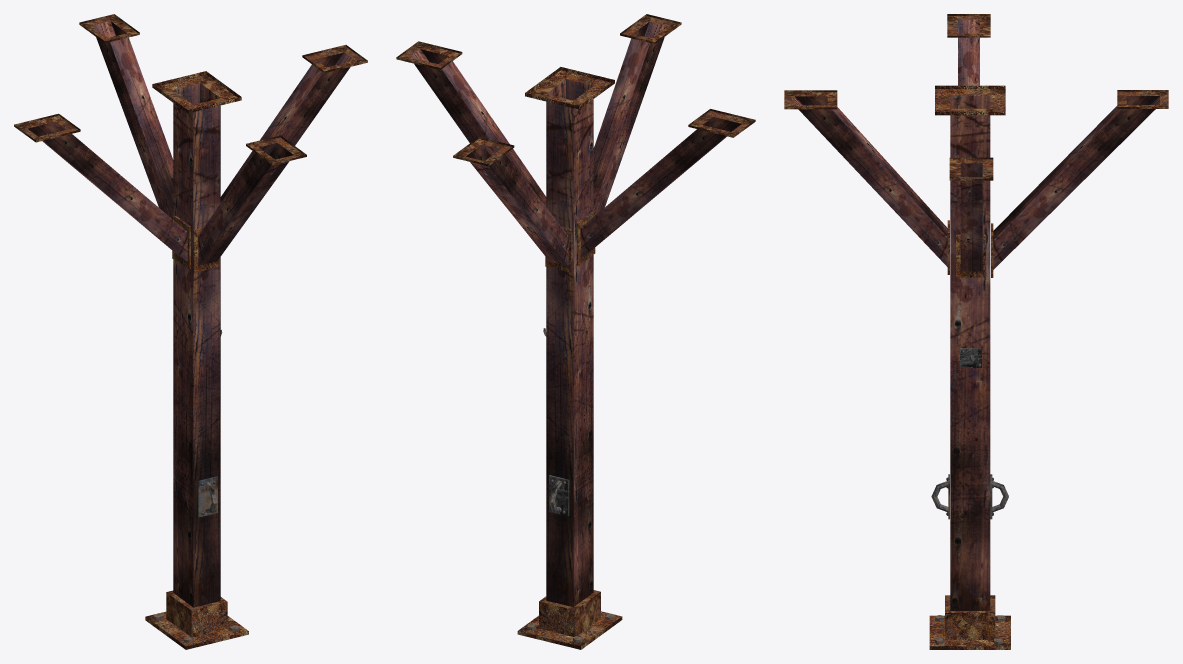
File: WhippingPost.fbx
3 views of the same model, side by side, from view 1: azimuth 30°, elevation 25°; view 2: azimuth 150°, elevation 25°; view 3: azimuth 270°, elevation 25° (orthographic).
Visible parts, largest first — view 1: WhippingPost:Mesh; view 2: WhippingPost:Mesh; view 3: WhippingPost:Mesh.
Part boxes in pixels (left/top/right/bottom): WhippingPost:Mesh: left=14, top=14, right=367, bottom=649; WhippingPost:Mesh: left=396, top=14, right=755, bottom=649; WhippingPost:Mesh: left=784, top=14, right=1168, bottom=649.
Bounding box in the file's own units: 3.15 × 4.86 × 3.15.
